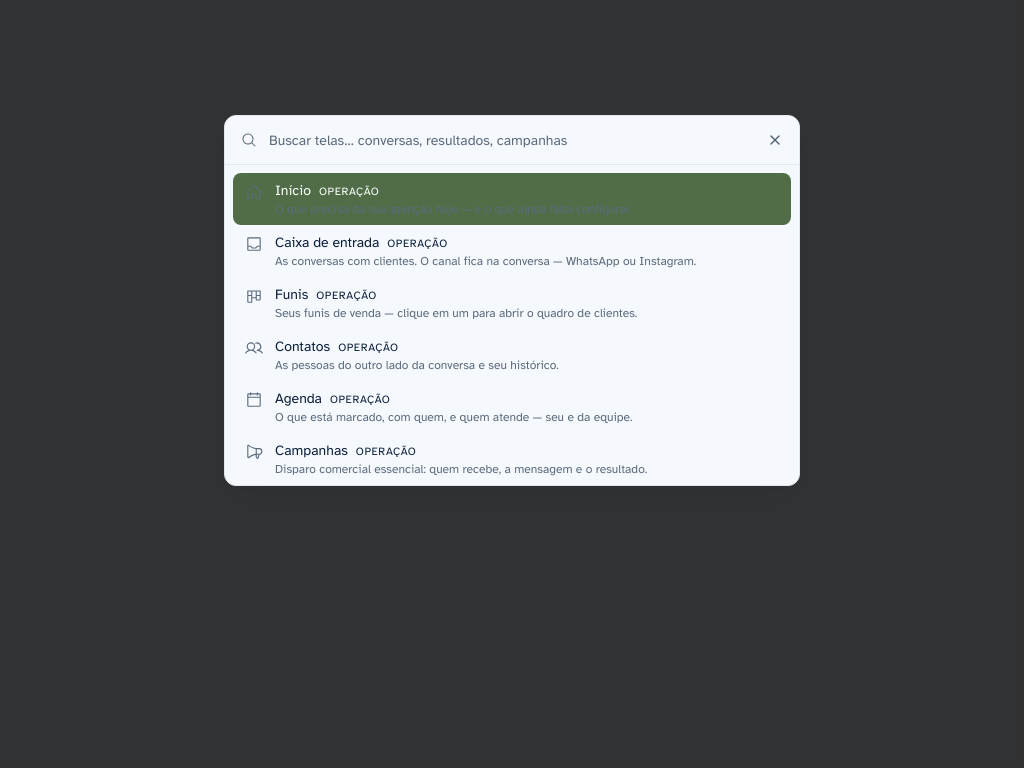
Test: CommandPalette › acha uma tela que o sidebar não mostra
Type "conhec" into the dropdown.
click(526, 140); type("conhec")  # box [269,116,783,164]
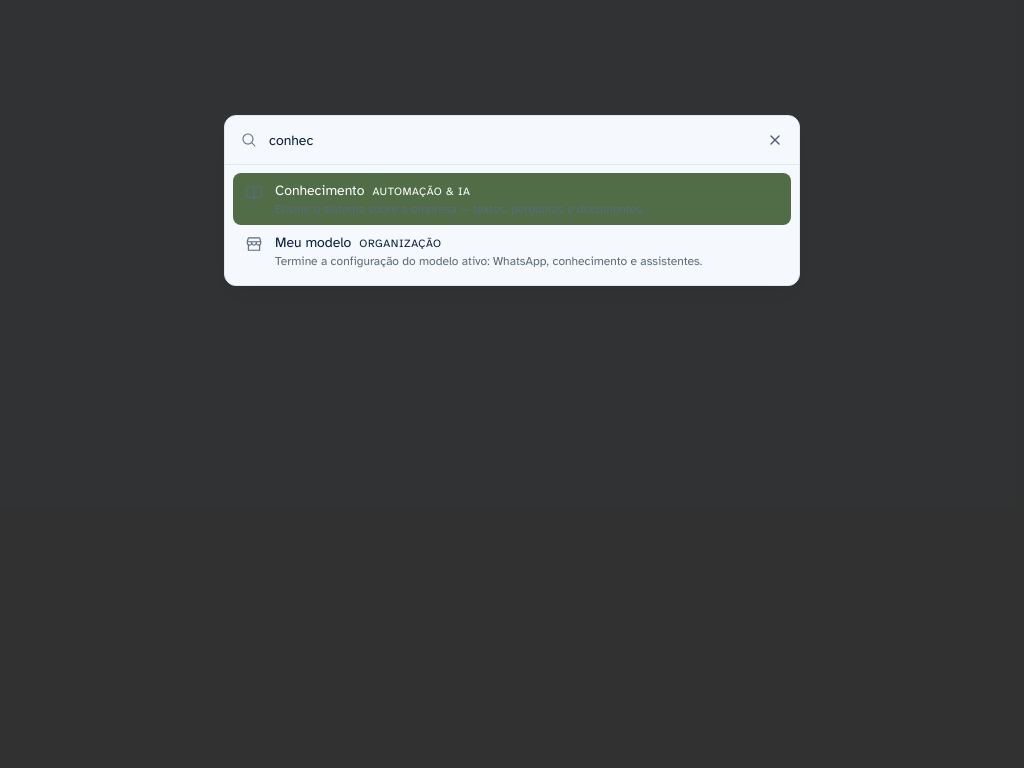
Now the option "Conhecimento" is shown, box [233,173,791,225]
